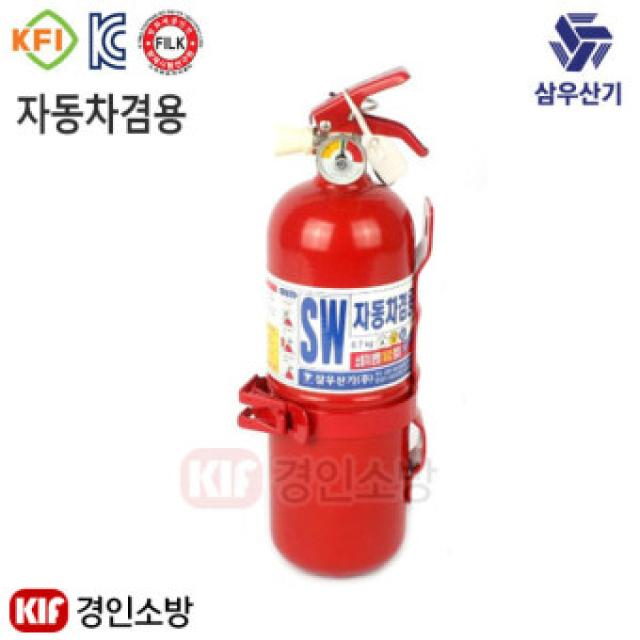pressure gauge: (317, 136, 365, 184)
